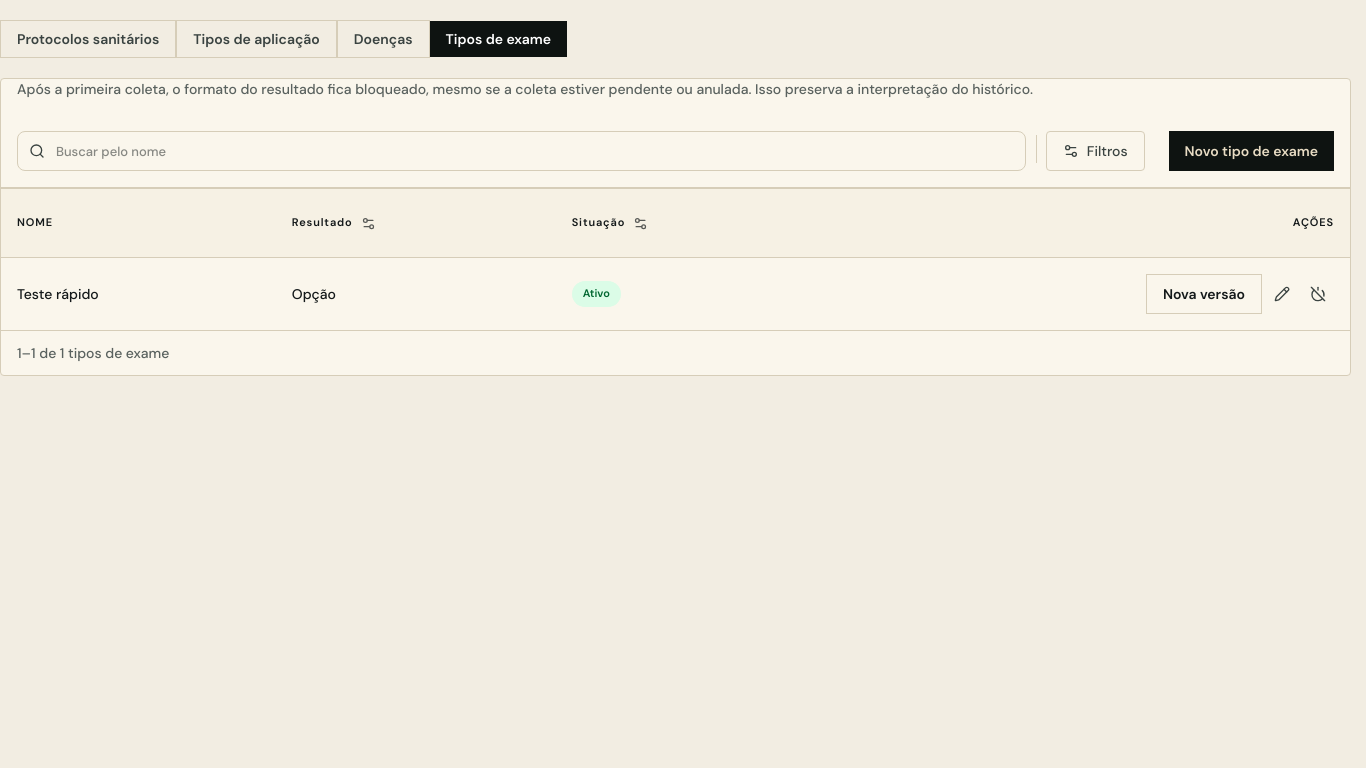
Test: Cadastros sanitários › bloqueia opções após coleta e ainda permite renomear
This screenshot has width=1366, height=768.
Click the button named "Editar Teste rápido".
click(1282, 294)  # box [1266,274,1298,314]
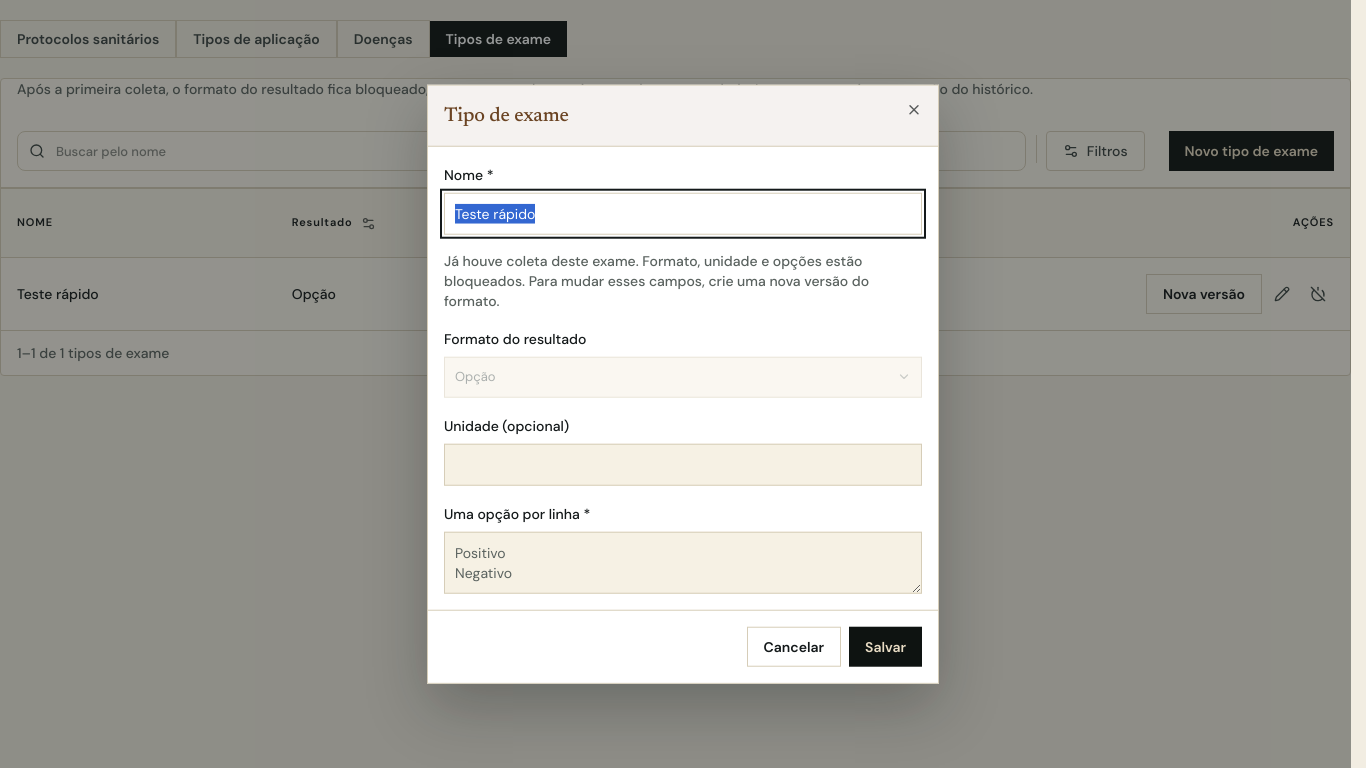
Now the text box labelled "Uma opção por linha" is disabled, box [444,531,922,593]
Now the field labelled "Nome" is enabled
Replace the text in the field labelled "Nome" with "Teste revisado" at (683,214), box [444,193,922,235]
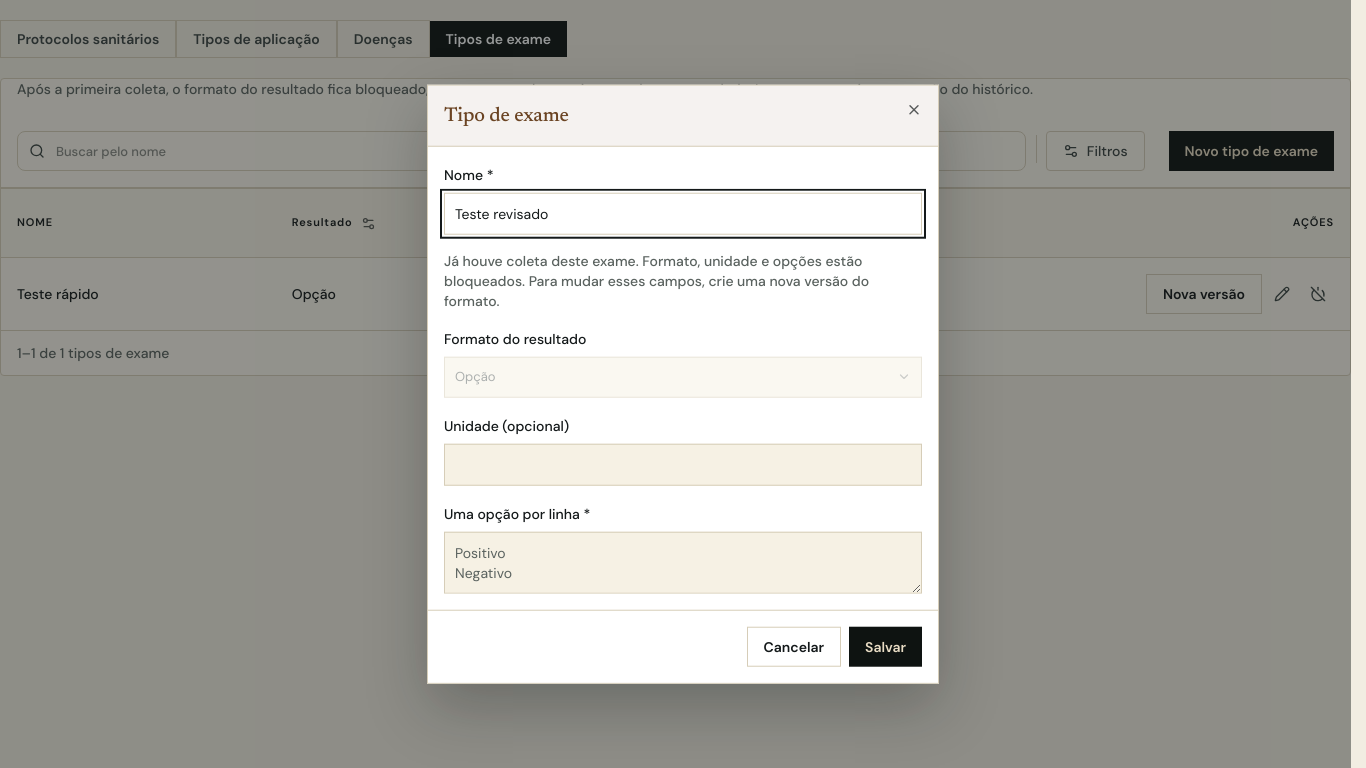
Click the button "Salvar".
click(886, 646)  # box [849,626,922,666]
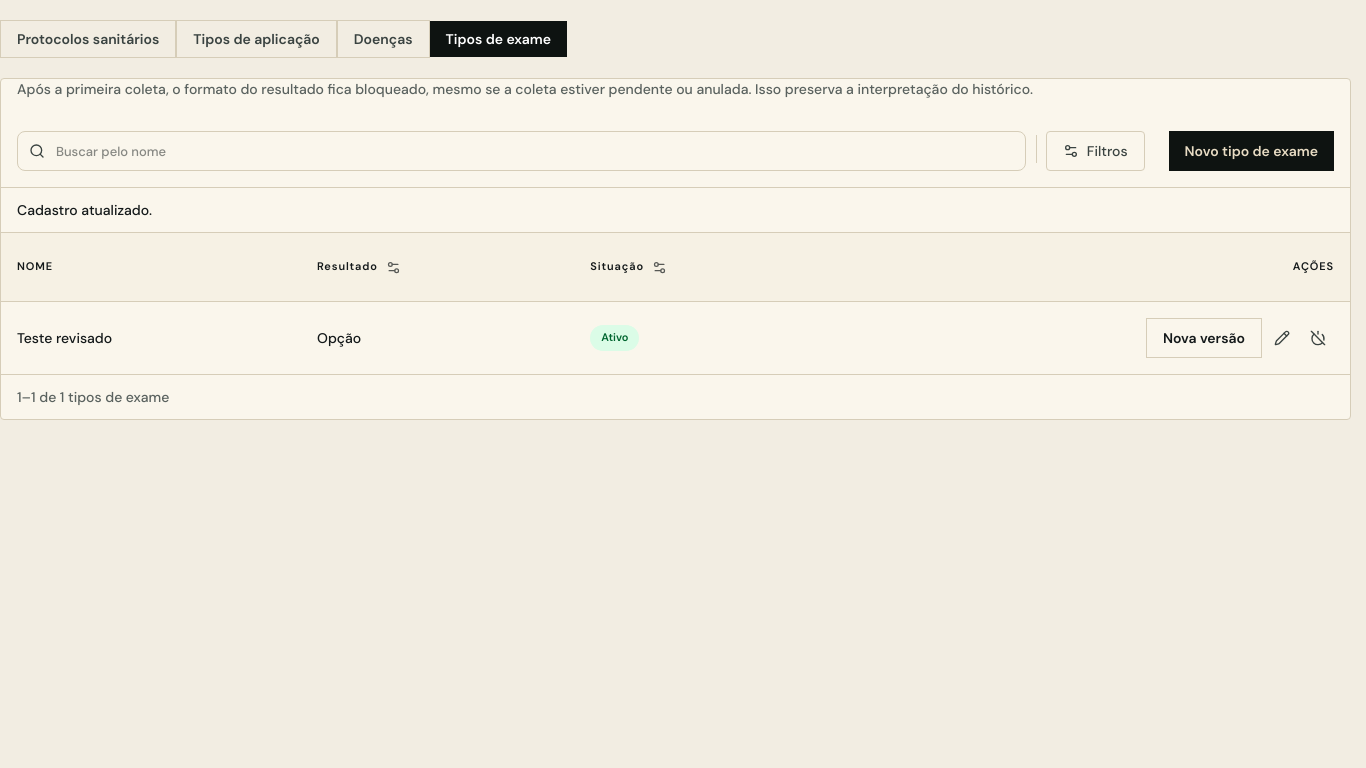
Now the text "Cadastro atualizado." is shown, box [17,201,152,219]
Click the button named "Editar Teste revisado".
click(1282, 338)  # box [1266,318,1298,358]
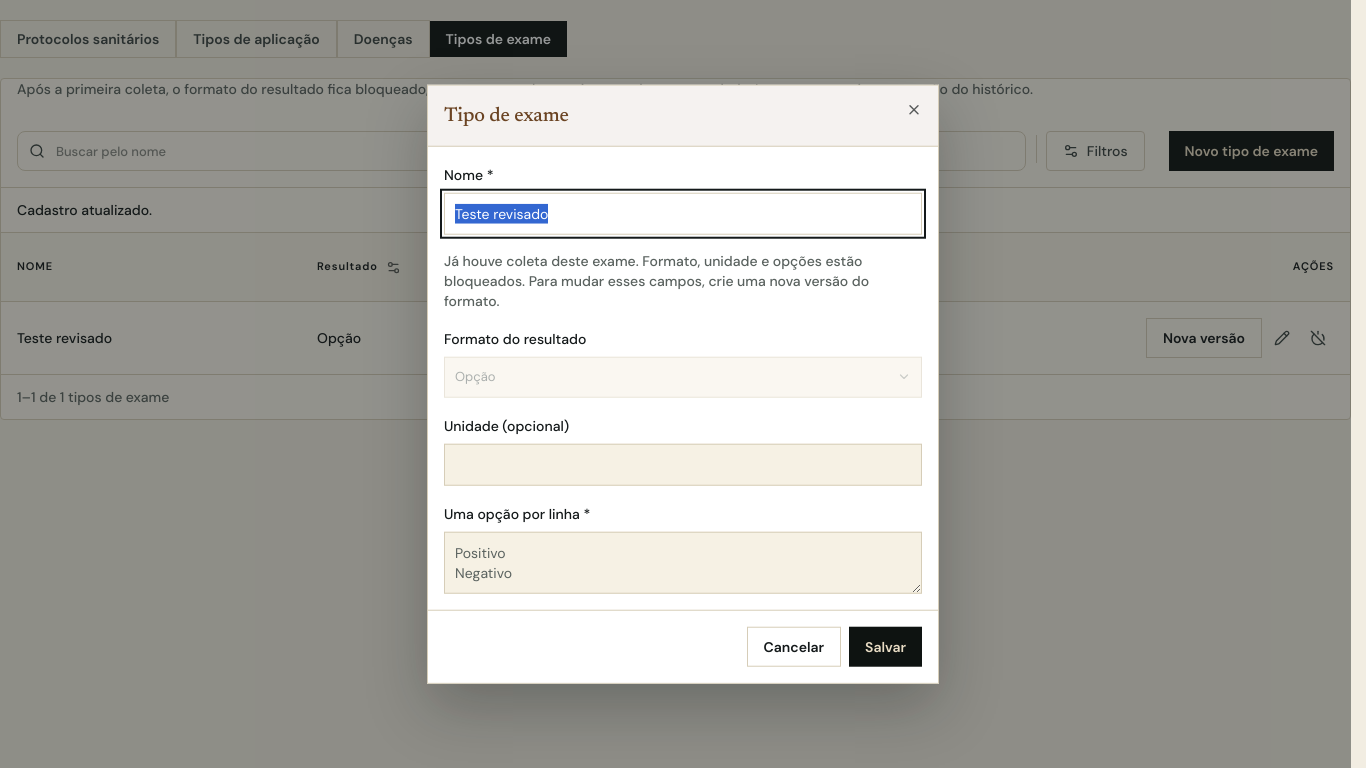
Now the dropdown named "Formato do resultado" is disabled, box [444,357,922,397]
